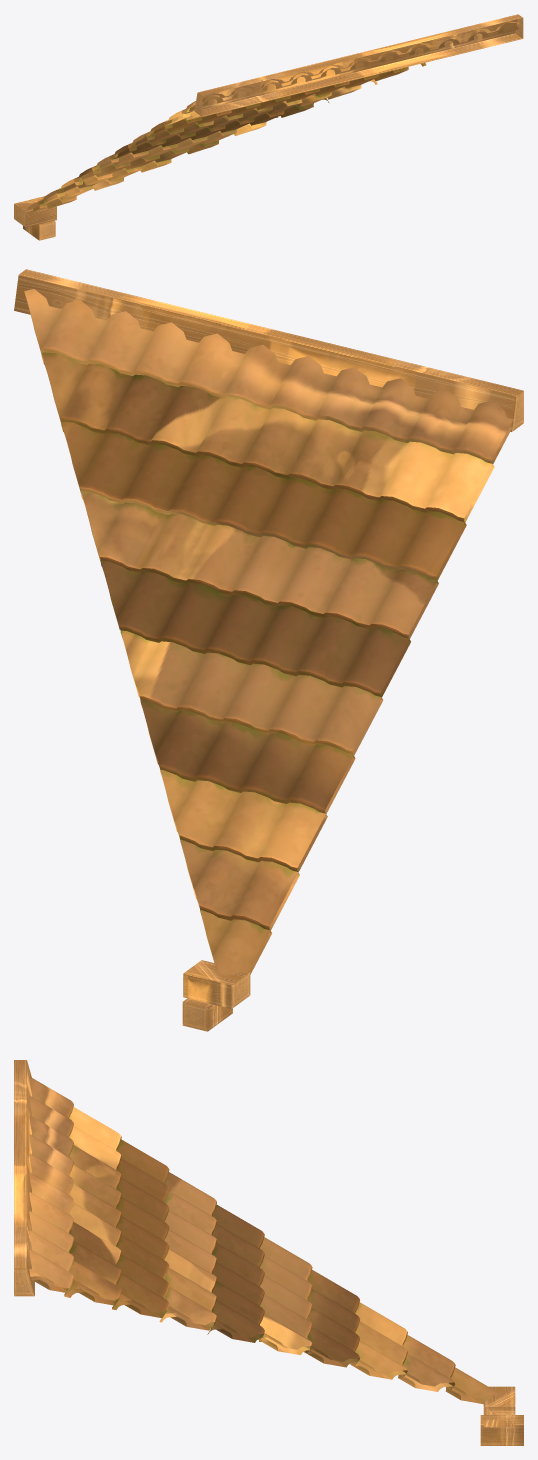
File: SM_Roof_05.fbx
The picture shows the model from 3 angles, top to bottom: view 1: azimuth 30°, elevation 25°; view 2: azimuth 150°, elevation 25°; view 3: azimuth 270°, elevation 25°; orthographic projection. The views are drawn at different scales.
Visible parts, largest first — view 1: SM_Roof_05_LOD0; view 2: SM_Roof_05_LOD0; view 3: SM_Roof_05_LOD0.
Part boxes in pixels (x1,y1,x2,y2): SM_Roof_05_LOD0: (14,14,523,240); SM_Roof_05_LOD0: (14,269,523,1031); SM_Roof_05_LOD0: (14,1060,523,1445).
Size of the model in its own units: 397 by 409 by 325.
